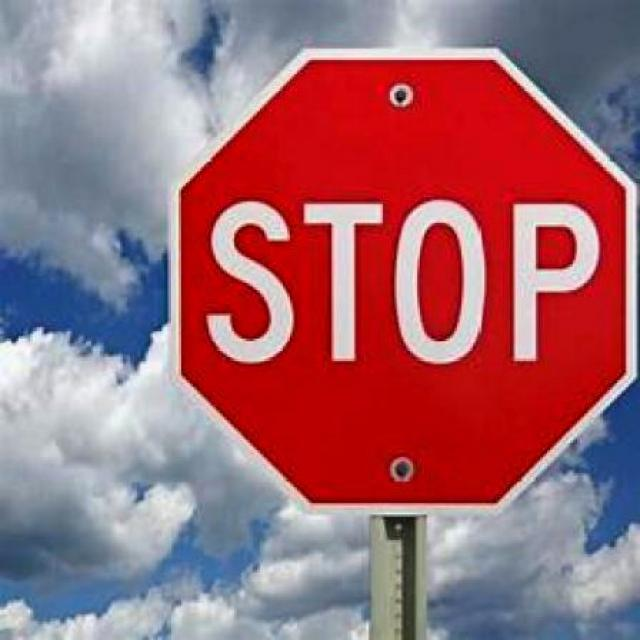stop_sign: (166, 48, 638, 516)
